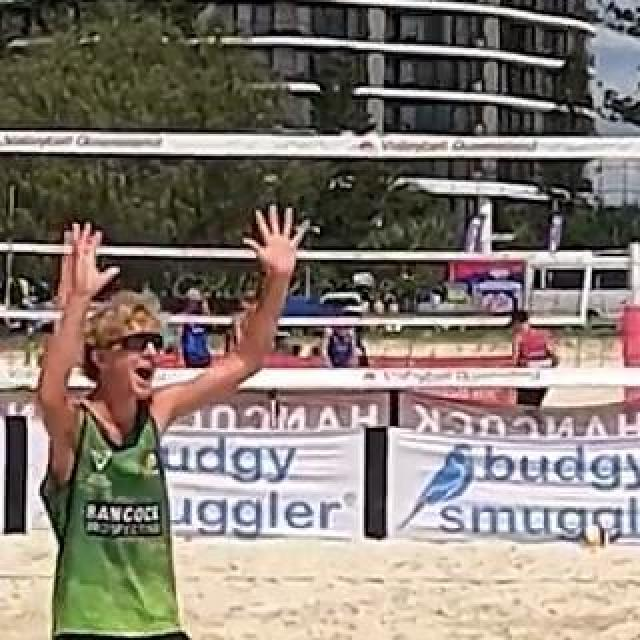volleyball: (580, 523, 608, 553)
